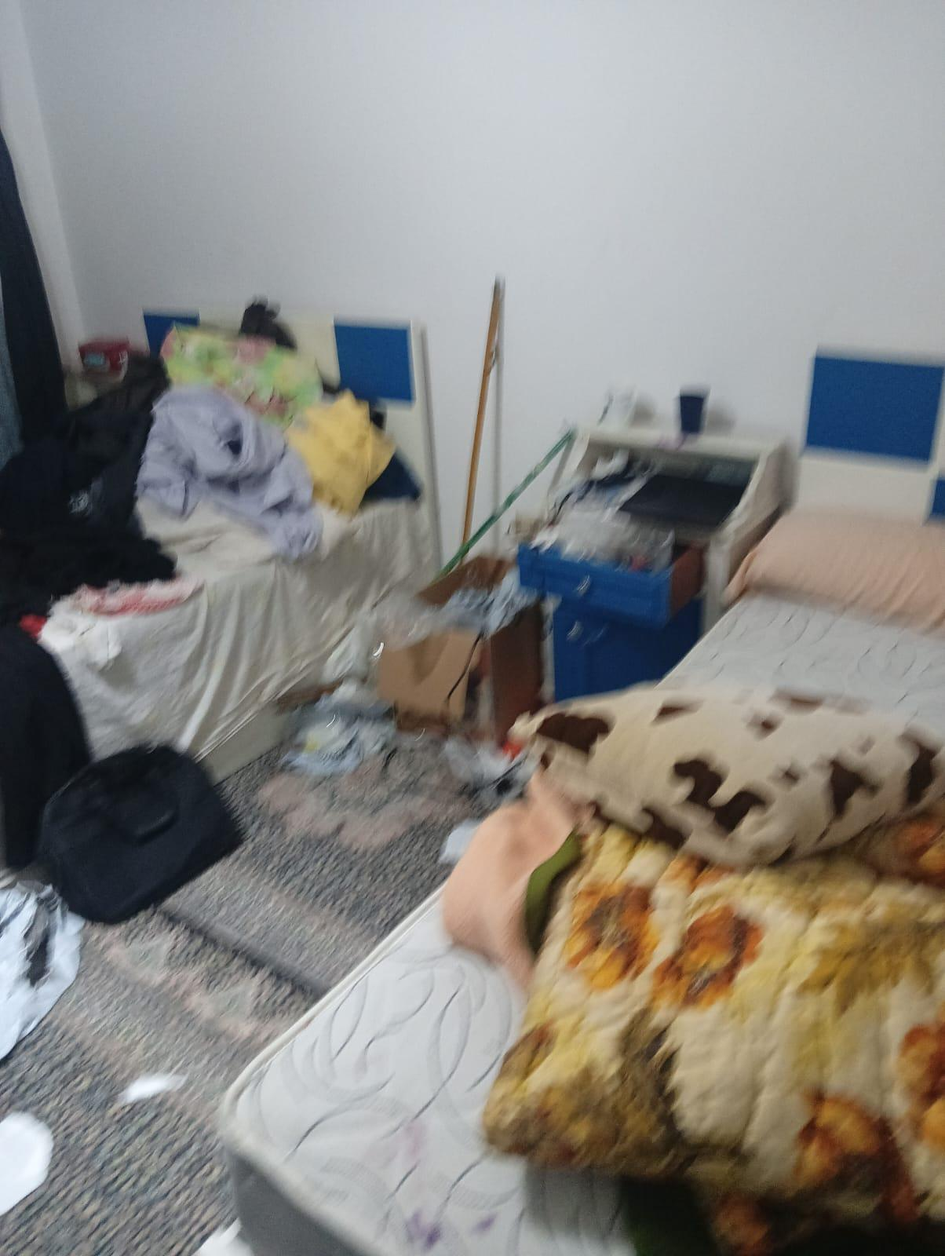cup: (598, 389, 645, 431), (678, 389, 707, 435)
